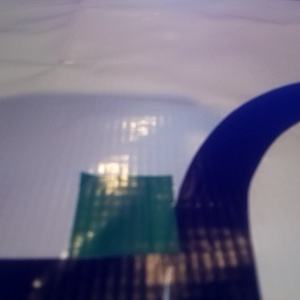bottom_right: (241, 24, 300, 56)
